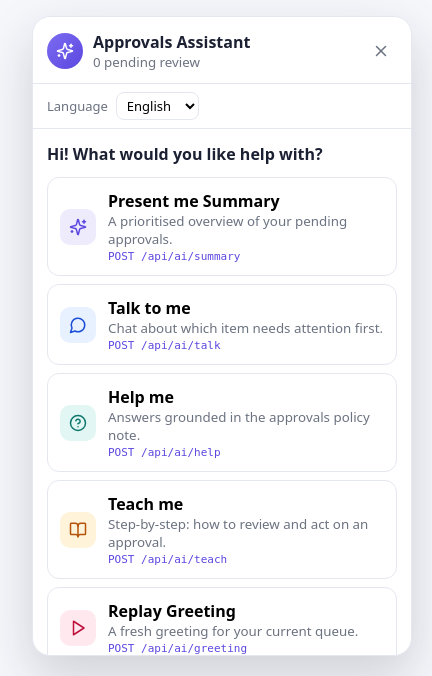
Test case: Dev inspector › shows endpoint, prompt version, fallback reason and latency under an answer
Click the button "Present me Summary" at [222, 226], box [47, 177, 397, 276]
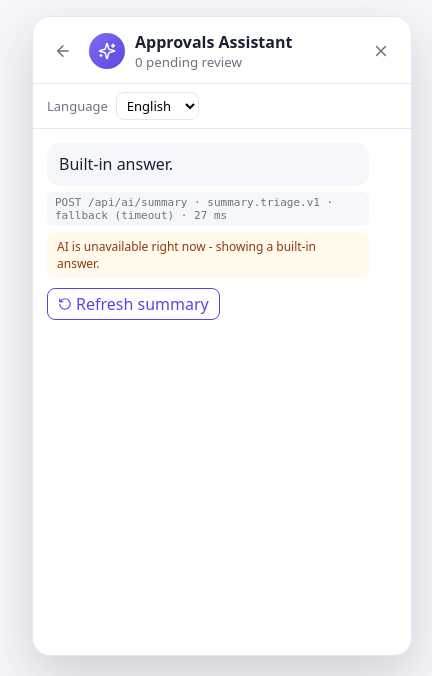
Expected: the text with test id "dev-line" shows "POST /api/ai/summary", [55, 196, 333, 222]
Expected: the text with test id "dev-line" shows "summary.triage.v1", [55, 196, 333, 222]
Expected: the text with test id "dev-line" shows "fallback (timeout)", [55, 196, 333, 222]
